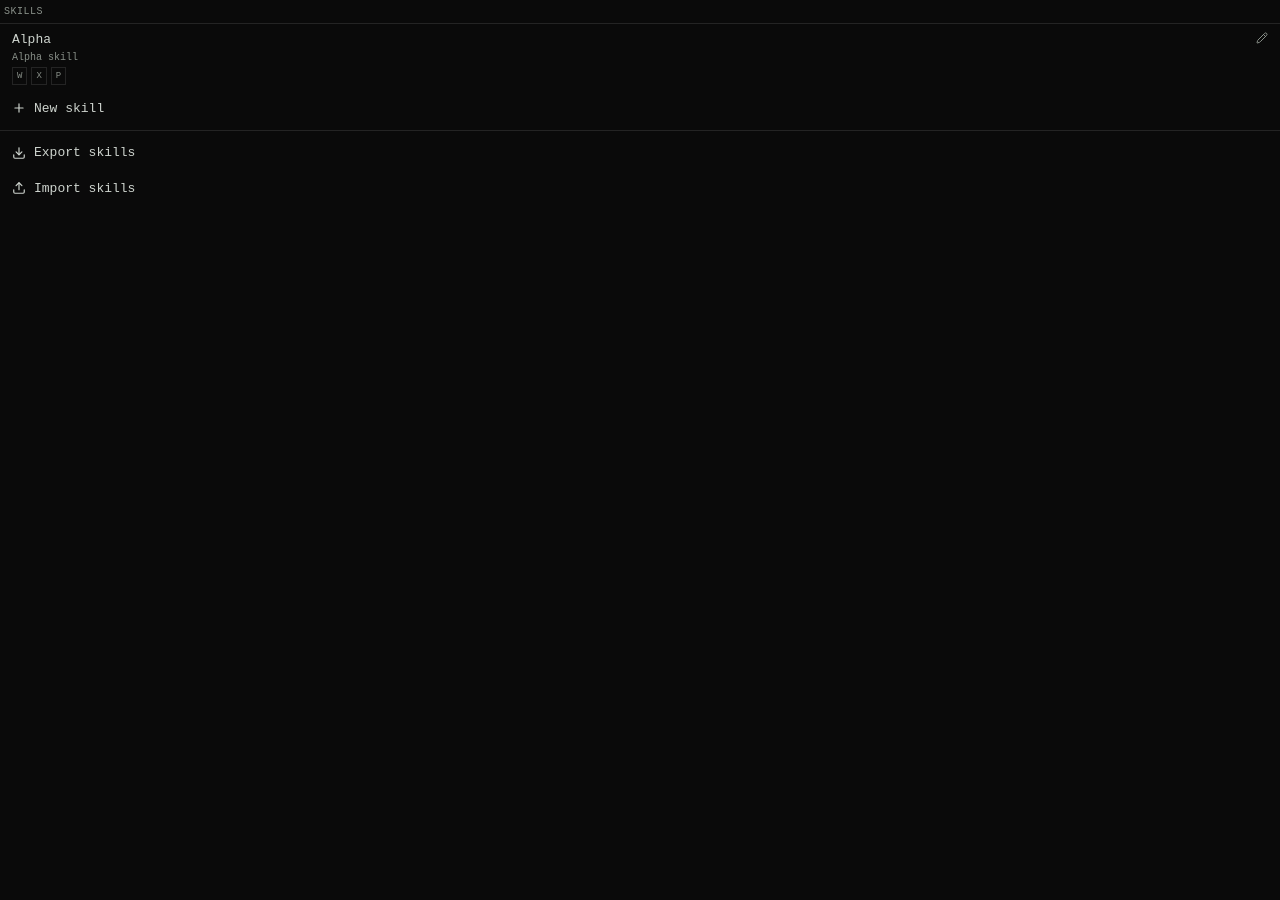
Test: SkillsMenu › edits an existing skill
Click the button named "Edit Alpha" at (1262, 38), box left=1256, top=32, right=1268, bottom=44
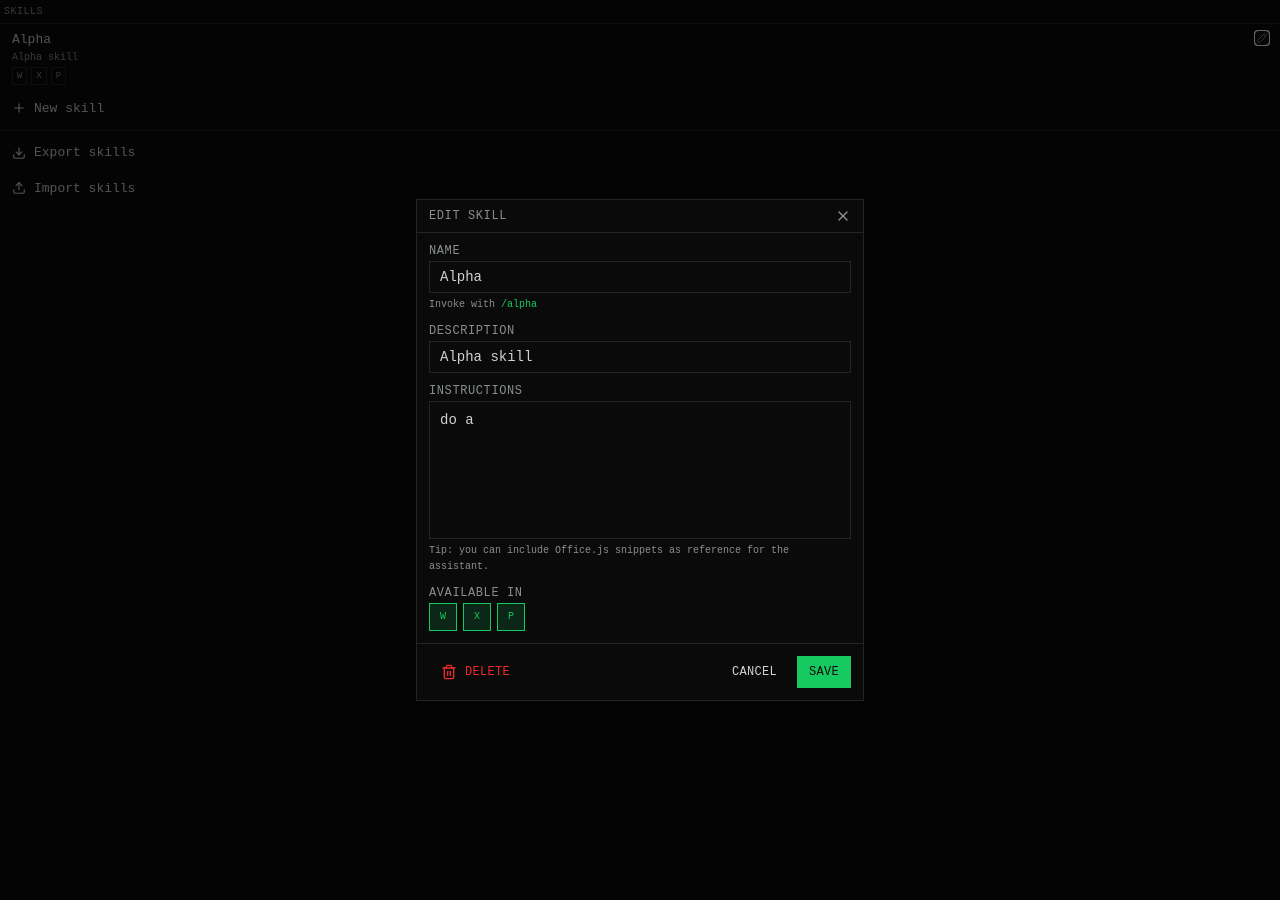
Clear the field labelled "Name" at (640, 277), box left=429, top=261, right=851, bottom=293
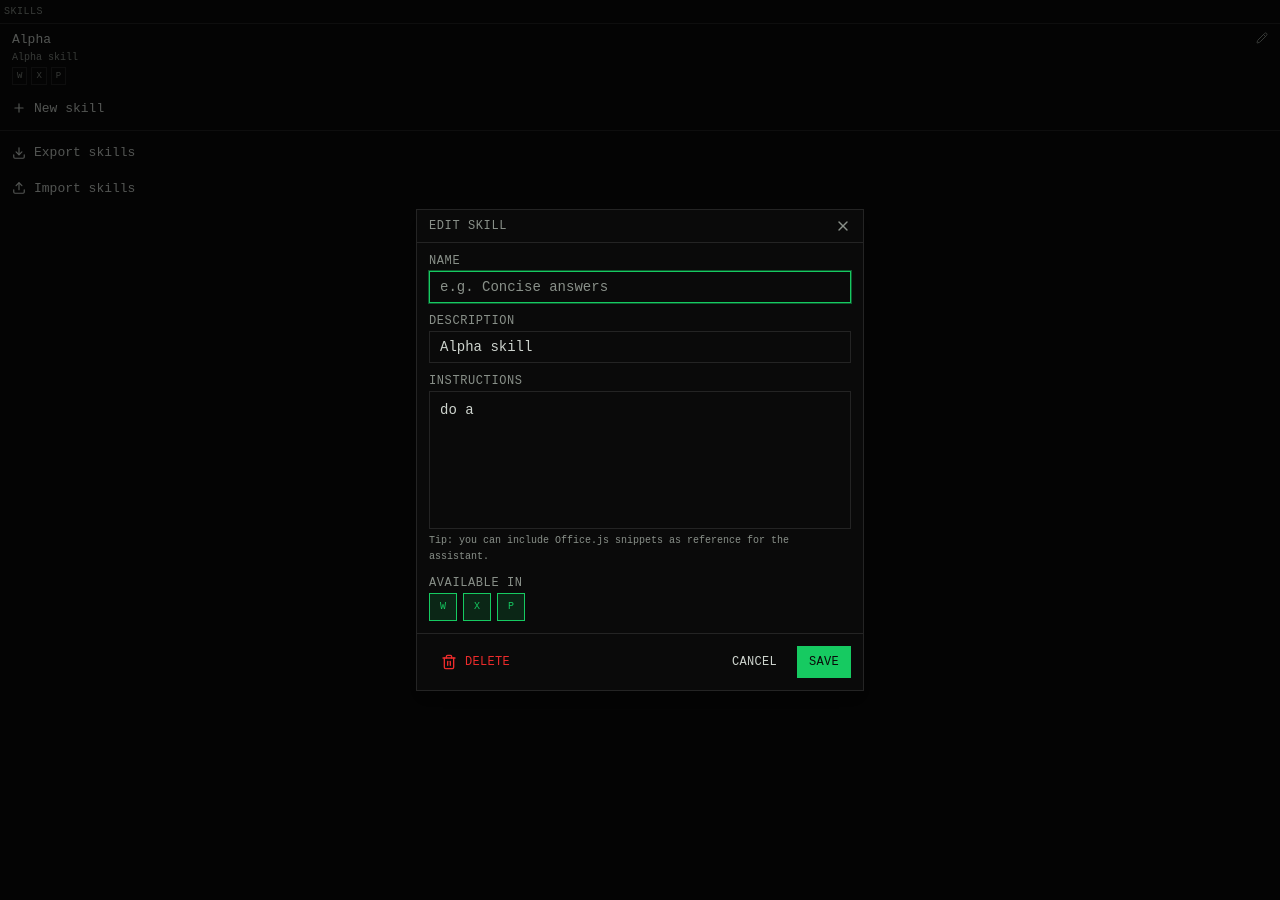
Type "Alpha v2" into the field labelled "Name" at (640, 287), box left=429, top=271, right=851, bottom=303
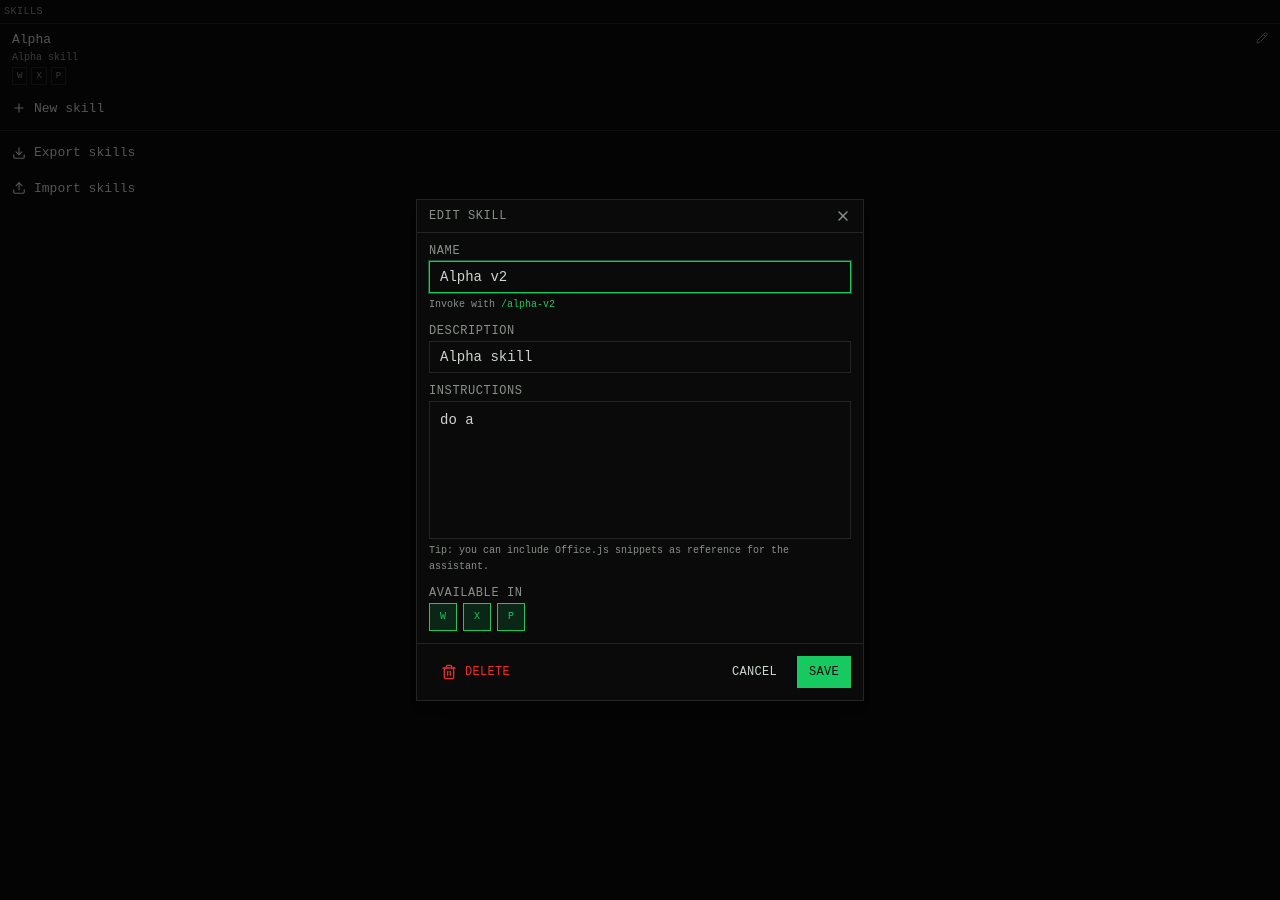
Click the button "Save" at (824, 672), box left=797, top=656, right=851, bottom=688
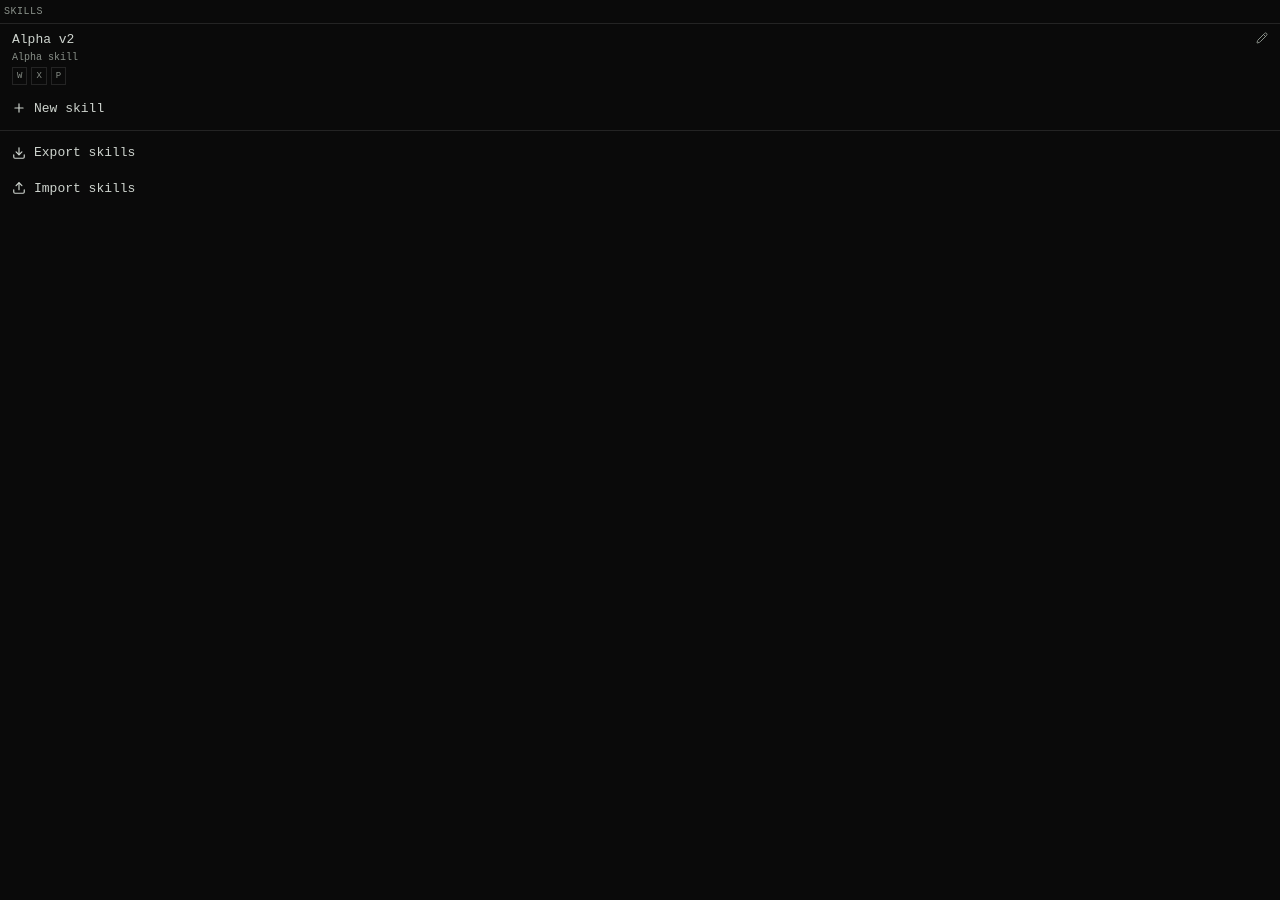
Expected: the text "Alpha v2" is shown, left=12, top=32, right=74, bottom=47
